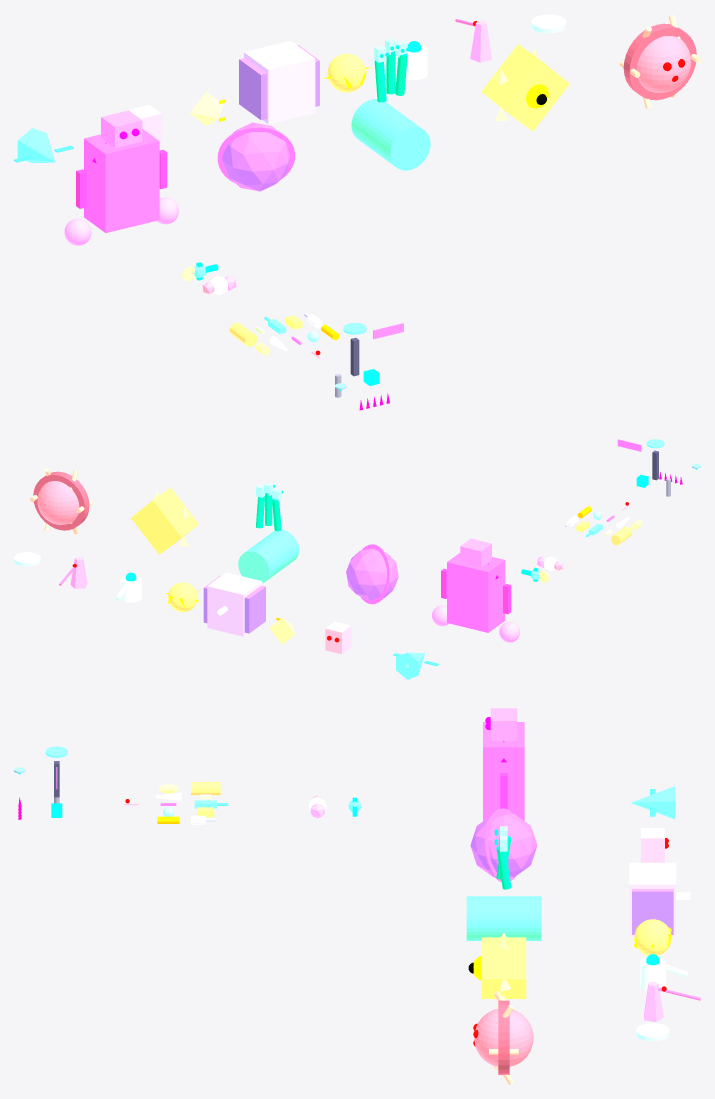
Rendered from all_assets.glb.
3 renders of one model, top to bottom at view 1: azimuth 30°, elevation 25°; view 2: azimuth 150°, elevation 25°; view 3: azimuth 270°, elevation 25°, orthographic. The views are drawn at different scales.
Visible parts, largest first — view 1: Boss_Titan_Body, Enemy_Tank, Boss_Hydra_Body, Boss_Overseer_Body, Boss_VoidCore_Shell, Boss_Omega_Core, Boss_Omega_Ring, TankArmor, Boss_Titan_Head, Enemy_Exploder, PlayerShip, Boss_VoidCore_Ring_2 (+4 smaller); view 2: Boss_Titan_Body, Boss_Overseer_Body, Enemy_Tank, Boss_Hydra_Body, Boss_VoidCore_Shell, Boss_Omega_Core, Boss_Omega_Ring, TankArmor, Boss_Titan_Head, Enemy_Grunt, Enemy_Exploder, PlayerShip (+4 smaller); view 3: Boss_Hydra_Body, Boss_Titan_Body, Boss_Overseer_Body, Boss_VoidCore_Shell, Boss_Omega_Core, Enemy_Tank, TankArmor, Enemy_Exploder, Boss_Titan_Head, Boss_Omega_Ring, Enemy_Grunt, PlayerShip (+2 smaller).
Part boxes in pixels (<box>): Boss_Titan_Body: <box>84,129,159,232</box>; Enemy_Tank: <box>244,40,315,124</box>; Boss_Hydra_Body: <box>351,99,430,170</box>; Boss_Overseer_Body: <box>481,44,569,131</box>; Boss_VoidCore_Shell: <box>222,122,289,191</box>; Boss_Omega_Core: <box>636,36,691,92</box>; Boss_Omega_Ring: <box>623,23,696,100</box>; TankArmor: <box>239,45,319,119</box>; Boss_Titan_Head: <box>101,110,142,148</box>; Enemy_Exploder: <box>327,53,366,92</box>; PlayerShip: <box>17,128,55,163</box>; Boss_VoidCore_Ring_2: <box>217,126,294,182</box>; Boss_Titan_Body: <box>447,553,505,632</box>; Boss_Overseer_Body: <box>131,487,198,554</box>; Enemy_Tank: <box>207,572,262,636</box>; Boss_Hydra_Body: <box>238,529,299,583</box>; Boss_VoidCore_Shell: <box>346,548,398,600</box>; Boss_Omega_Core: <box>37,481,79,524</box>; Boss_Omega_Ring: <box>33,471,89,530</box>; TankArmor: <box>203,575,265,633</box>; Boss_Titan_Head: <box>460,538,491,567</box>; Enemy_Grunt: <box>325,621,351,654</box>; Enemy_Exploder: <box>168,582,197,612</box>; PlayerShip: <box>396,652,424,679</box>; Boss_Hydra_Body: <box>466,896,541,940</box>; Boss_Titan_Body: <box>483,722,524,820</box>; Boss_Overseer_Body: <box>481,937,526,998</box>; Boss_VoidCore_Shell: <box>470,813,537,877</box>; Boss_Omega_Core: <box>474,1009,533,1066</box>; Enemy_Tank: <box>629,862,676,936</box>; TankArmor: <box>632,889,673,934</box>; Enemy_Exploder: <box>634,919,671,955</box>; Boss_Titan_Head: <box>490,708,517,740</box>; Boss_Omega_Ring: <box>498,1000,509,1074</box>; Enemy_Grunt: <box>641,828,664,862</box>; PlayerShip: <box>631,786,675,819</box>.
Bounding box in the file's own units: 18.65 × 3.64 × 18.44.
